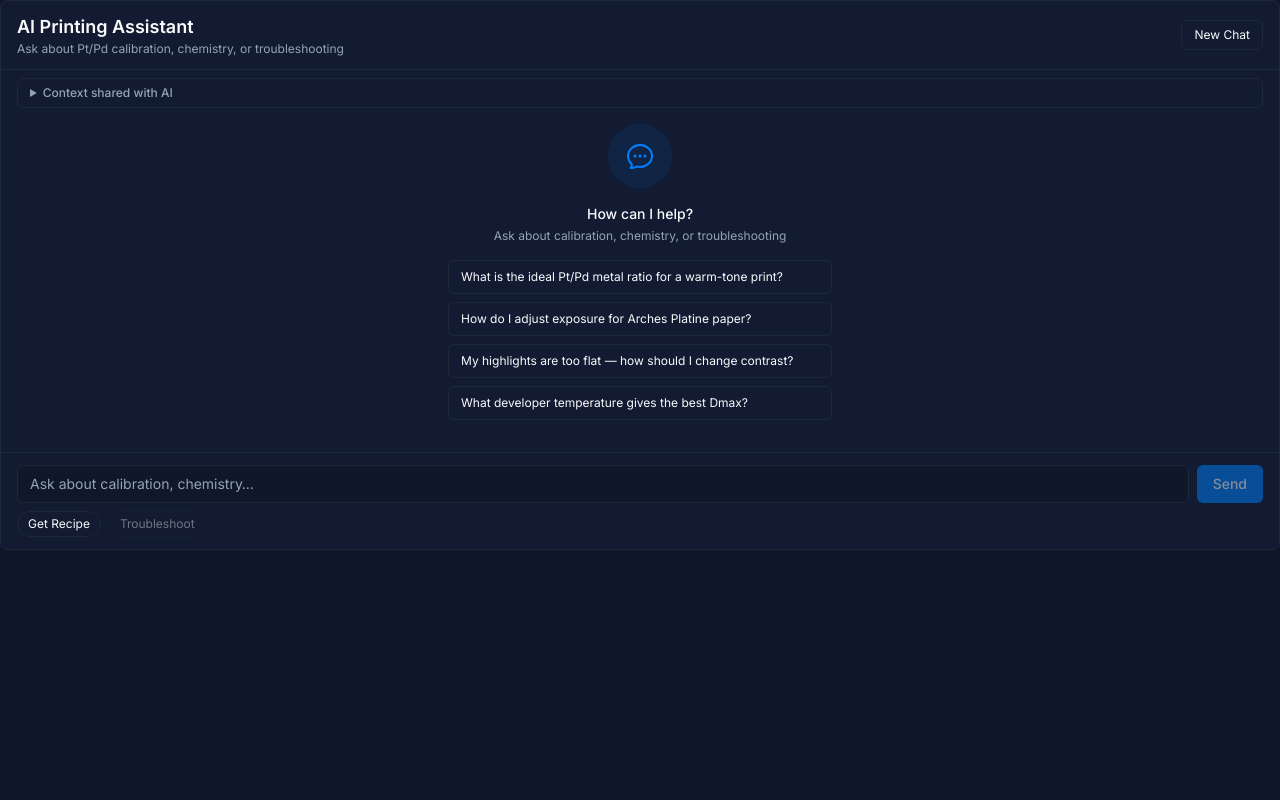
it: AIAssistant › Input & Send › send button is enabled when input has text
In the text box with test id "chat-input": [603, 484] box [17,465,1189,503], type "Test message"
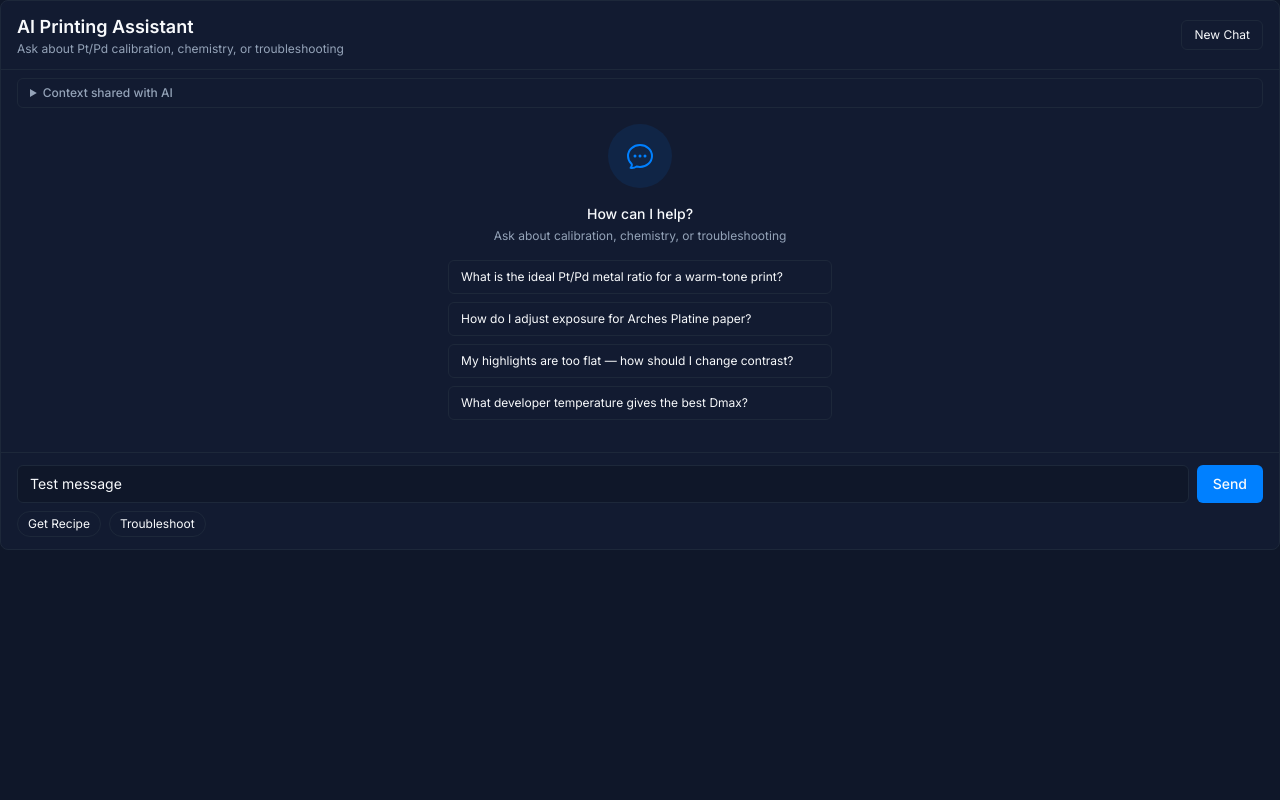
Check: the button with test id "send-btn" is enabled, box [1197,465,1263,503]
